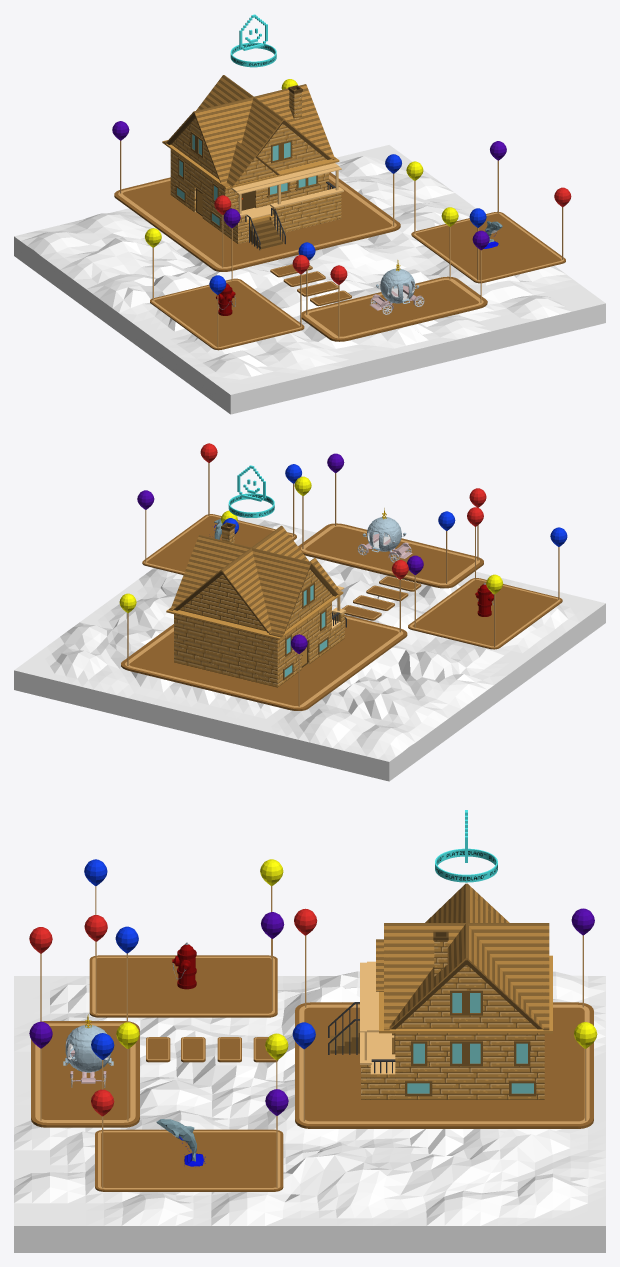
3 views of the same model, one above another, from view 1: azimuth 30°, elevation 25°; view 2: azimuth 150°, elevation 25°; view 3: azimuth 270°, elevation 25° (orthographic). The views are drawn at different scales.
Parts seen in each view (by area): view 1: Cube.013, Cube.508, VEHICLES_FANTASY_CARRIAGE, TYPE_PREMIUM; view 2: Cube.013, Cube.508, VEHICLES_FANTASY_CARRIAGE, TYPE_PREMIUM, OBJRANDOM_FIRE_HYDRANT; view 3: Cube.013, Cube.508, VEHICLES_FANTASY_CARRIAGE, TYPE_PREMIUM, OBJRANDOM_FIRE_HYDRANT, ANIMAL_DELFIN.
Part boxes in pixels (x1,y1,x2,y2): Cube.013: (14, 79, 605, 414); Cube.508: (162, 75, 343, 250); VEHICLES_FANTASY_CARRIAGE: (370, 260, 424, 314); TYPE_PREMIUM: (230, 14, 276, 67); Cube.013: (14, 443, 605, 781); Cube.508: (166, 522, 346, 687); VEHICLES_FANTASY_CARRIAGE: (357, 508, 412, 562); TYPE_PREMIUM: (228, 465, 274, 517); OBJRANDOM_FIRE_HYDRANT: (475, 583, 493, 616); Cube.013: (14, 859, 605, 1252); Cube.508: (328, 883, 552, 1099); VEHICLES_FANTASY_CARRIAGE: (63, 1014, 113, 1087); TYPE_PREMIUM: (435, 810, 497, 882); OBJRANDOM_FIRE_HYDRANT: (172, 942, 196, 989); ANIMAL_DELFIN: (156, 1119, 205, 1166).
Bounding box in the file's own units: 4000 × 2443 × 4000.
Materials: 32 (3 with a texture image).
